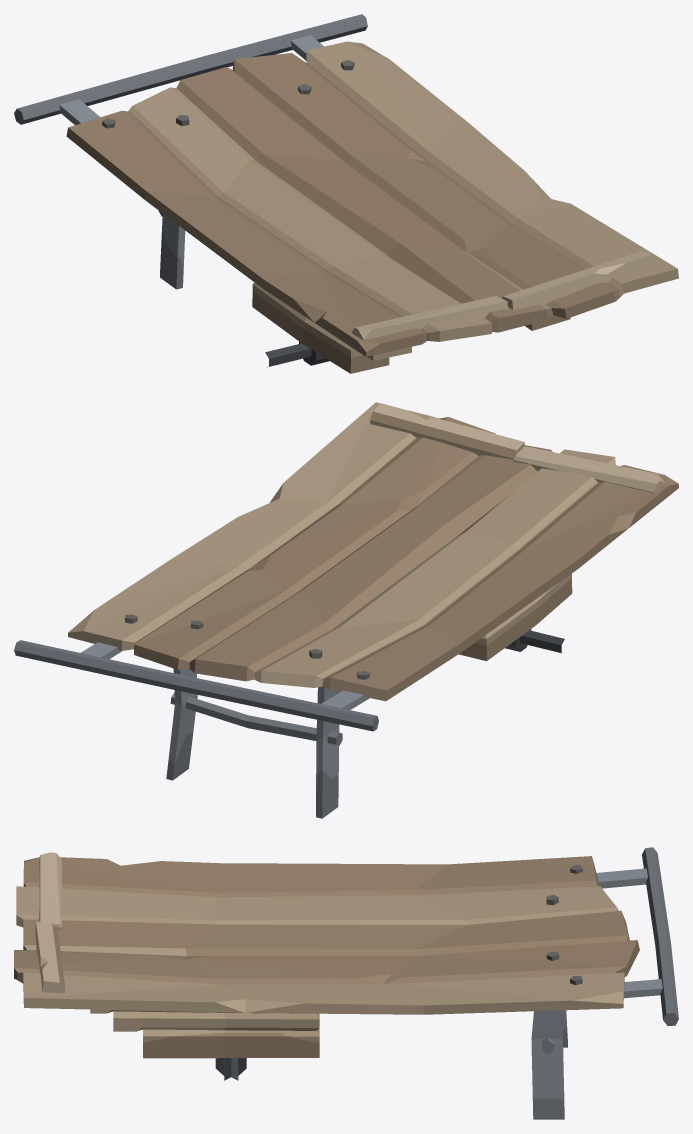
Rendered from SM_Prop_Cart_Wood_01.glb.
3 renders of one model, top to bottom at view 1: azimuth 30°, elevation 25°; view 2: azimuth 150°, elevation 25°; view 3: azimuth 270°, elevation 25°, orthographic. The views are drawn at different scales.
Parts seen in each view (by area): view 1: SM_Prop_Cart_Wood_01; view 2: SM_Prop_Cart_Wood_01; view 3: SM_Prop_Cart_Wood_01.
Boxes of the visible parts, box(x1,y1,x2,y2) form: SM_Prop_Cart_Wood_01: box(14, 14, 678, 373); SM_Prop_Cart_Wood_01: box(14, 402, 678, 818); SM_Prop_Cart_Wood_01: box(14, 847, 678, 1119).
Size of the model in its own units: 2.29 by 1.06 by 3.89.
Materials: 1 (1 with a texture image).
